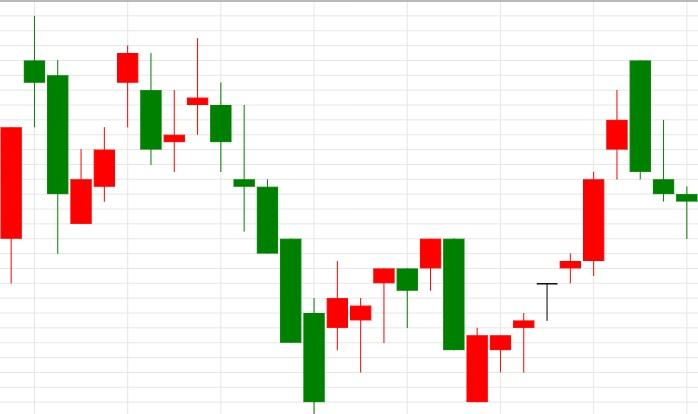bearish_engulfing_fall: (466, 61, 651, 402), (350, 238, 464, 372)
